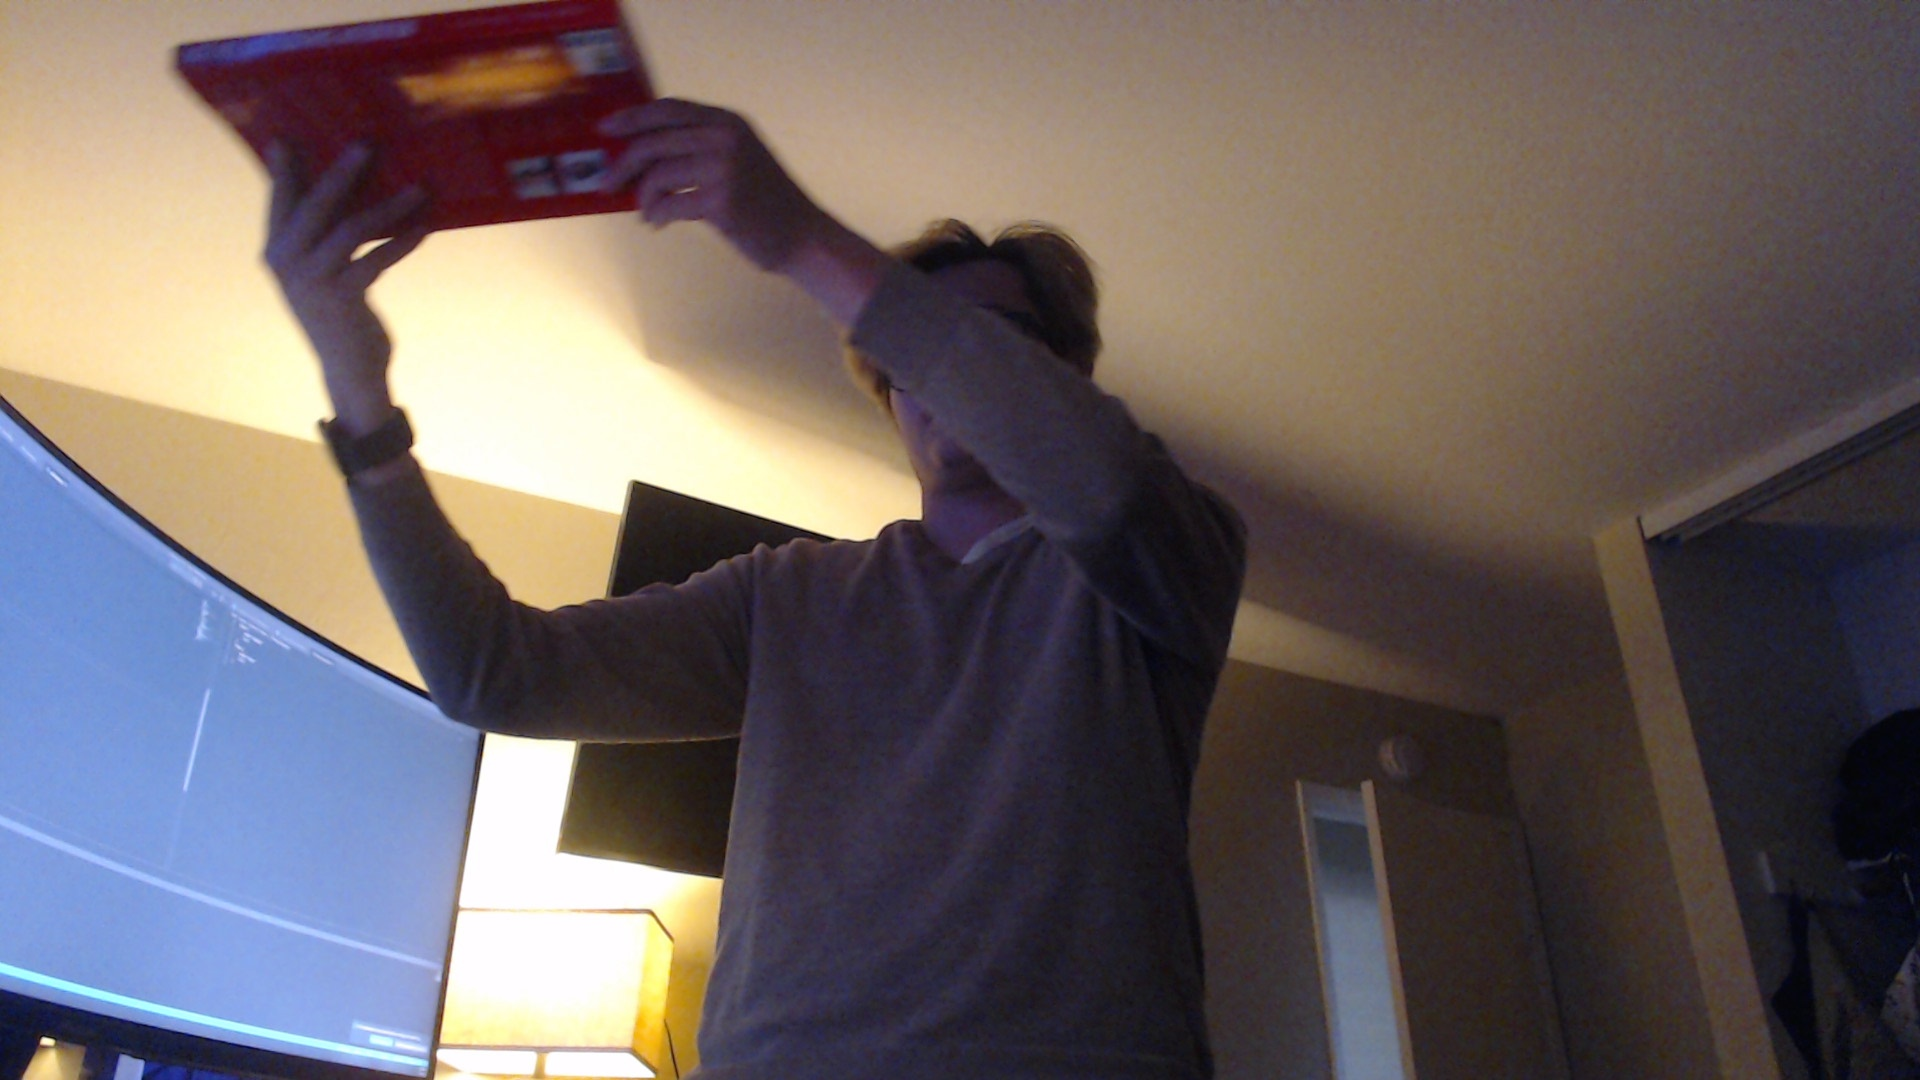book: (167, 1, 691, 243)
